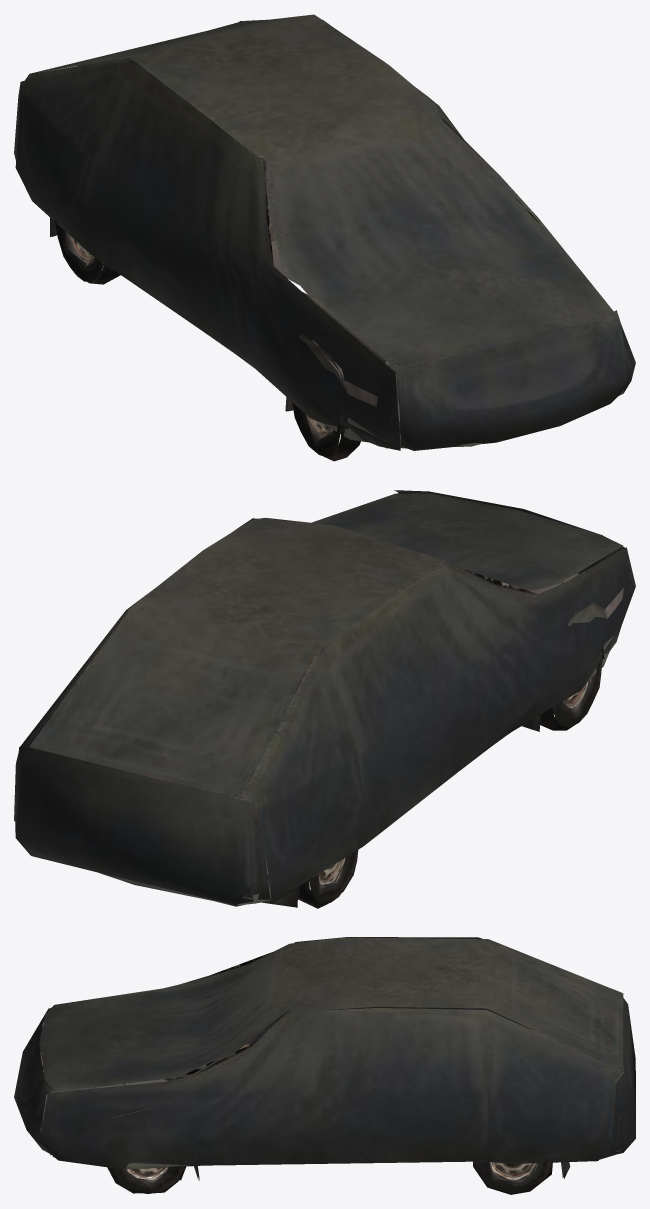
The model's file is covered_car_1k.gltf.
3 renders of one model, top to bottom at view 1: azimuth 30°, elevation 25°; view 2: azimuth 150°, elevation 25°; view 3: azimuth 270°, elevation 25°, orthographic. The views are drawn at different scales.
Parts seen in each view (by area): view 1: covered_car_LOD0, covered_car_wheel_02_LOD0, covered_car_wheel_03_LOD0; view 2: covered_car_LOD0, covered_car_wheel_03_LOD0, covered_car_wheel_02_LOD0; view 3: covered_car_LOD0, covered_car_wheel_04_LOD0, covered_car_wheel_01_LOD0.
Part boxes in pixels (x1,y1,x2,y2): covered_car_LOD0: [14, 14, 635, 450]; covered_car_wheel_02_LOD0: [292, 402, 360, 461]; covered_car_wheel_03_LOD0: [54, 219, 120, 284]; covered_car_LOD0: [14, 490, 635, 907]; covered_car_wheel_03_LOD0: [298, 850, 358, 908]; covered_car_wheel_02_LOD0: [540, 647, 604, 730]; covered_car_LOD0: [14, 937, 635, 1180]; covered_car_wheel_04_LOD0: [473, 1158, 553, 1194]; covered_car_wheel_01_LOD0: [107, 1166, 186, 1193].
Size of what is drawn, in the model's own units: 1.8 by 1.39 by 4.38.
Materials: 2 (2 with a texture image).
